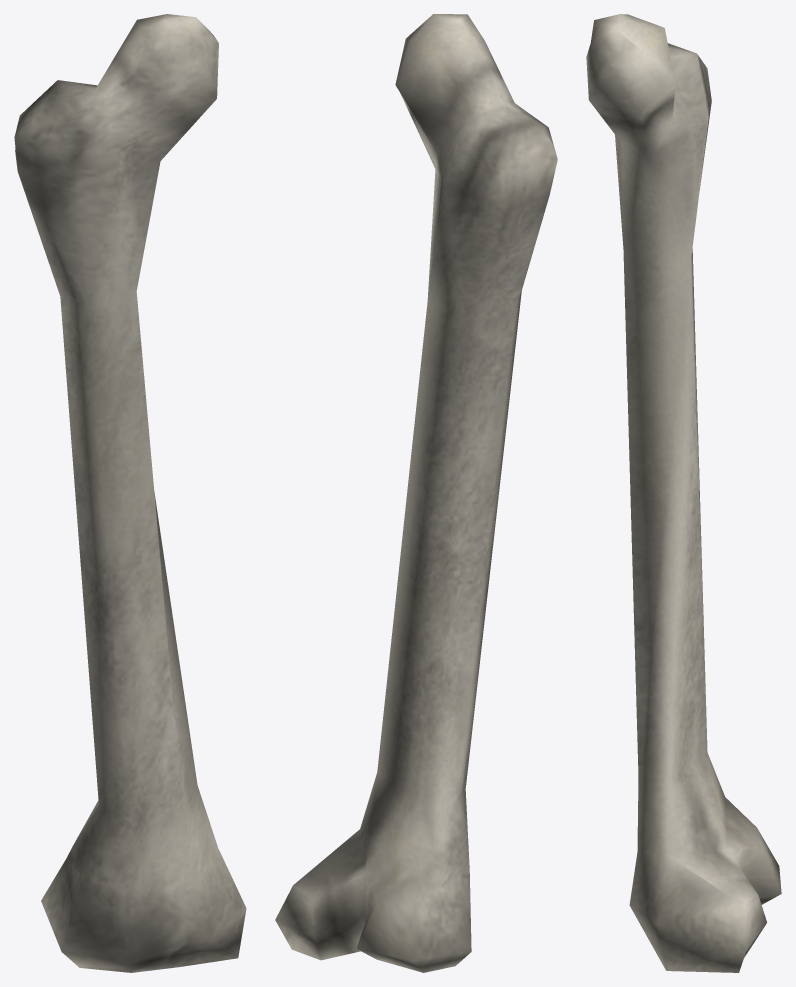
The model's file is femurDer.obj.
3 renders of one model, left to right at view 1: azimuth 30°, elevation 25°; view 2: azimuth 150°, elevation 25°; view 3: azimuth 270°, elevation 25°, orthographic. The views are drawn at different scales.
Parts seen in each view (by area): view 1: femurDer; view 2: femurDer; view 3: femurDer.
Boxes of the visible parts, x1=… form: femurDer: x1=14, y1=14, x2=246, y2=972; femurDer: x1=275, y1=14, x2=557, y2=972; femurDer: x1=586, y1=14, x2=781, y2=972.
Bounding box in the file's own units: 0.1415 × 0.5173 × 0.1004.
1 material, 1 textured.
